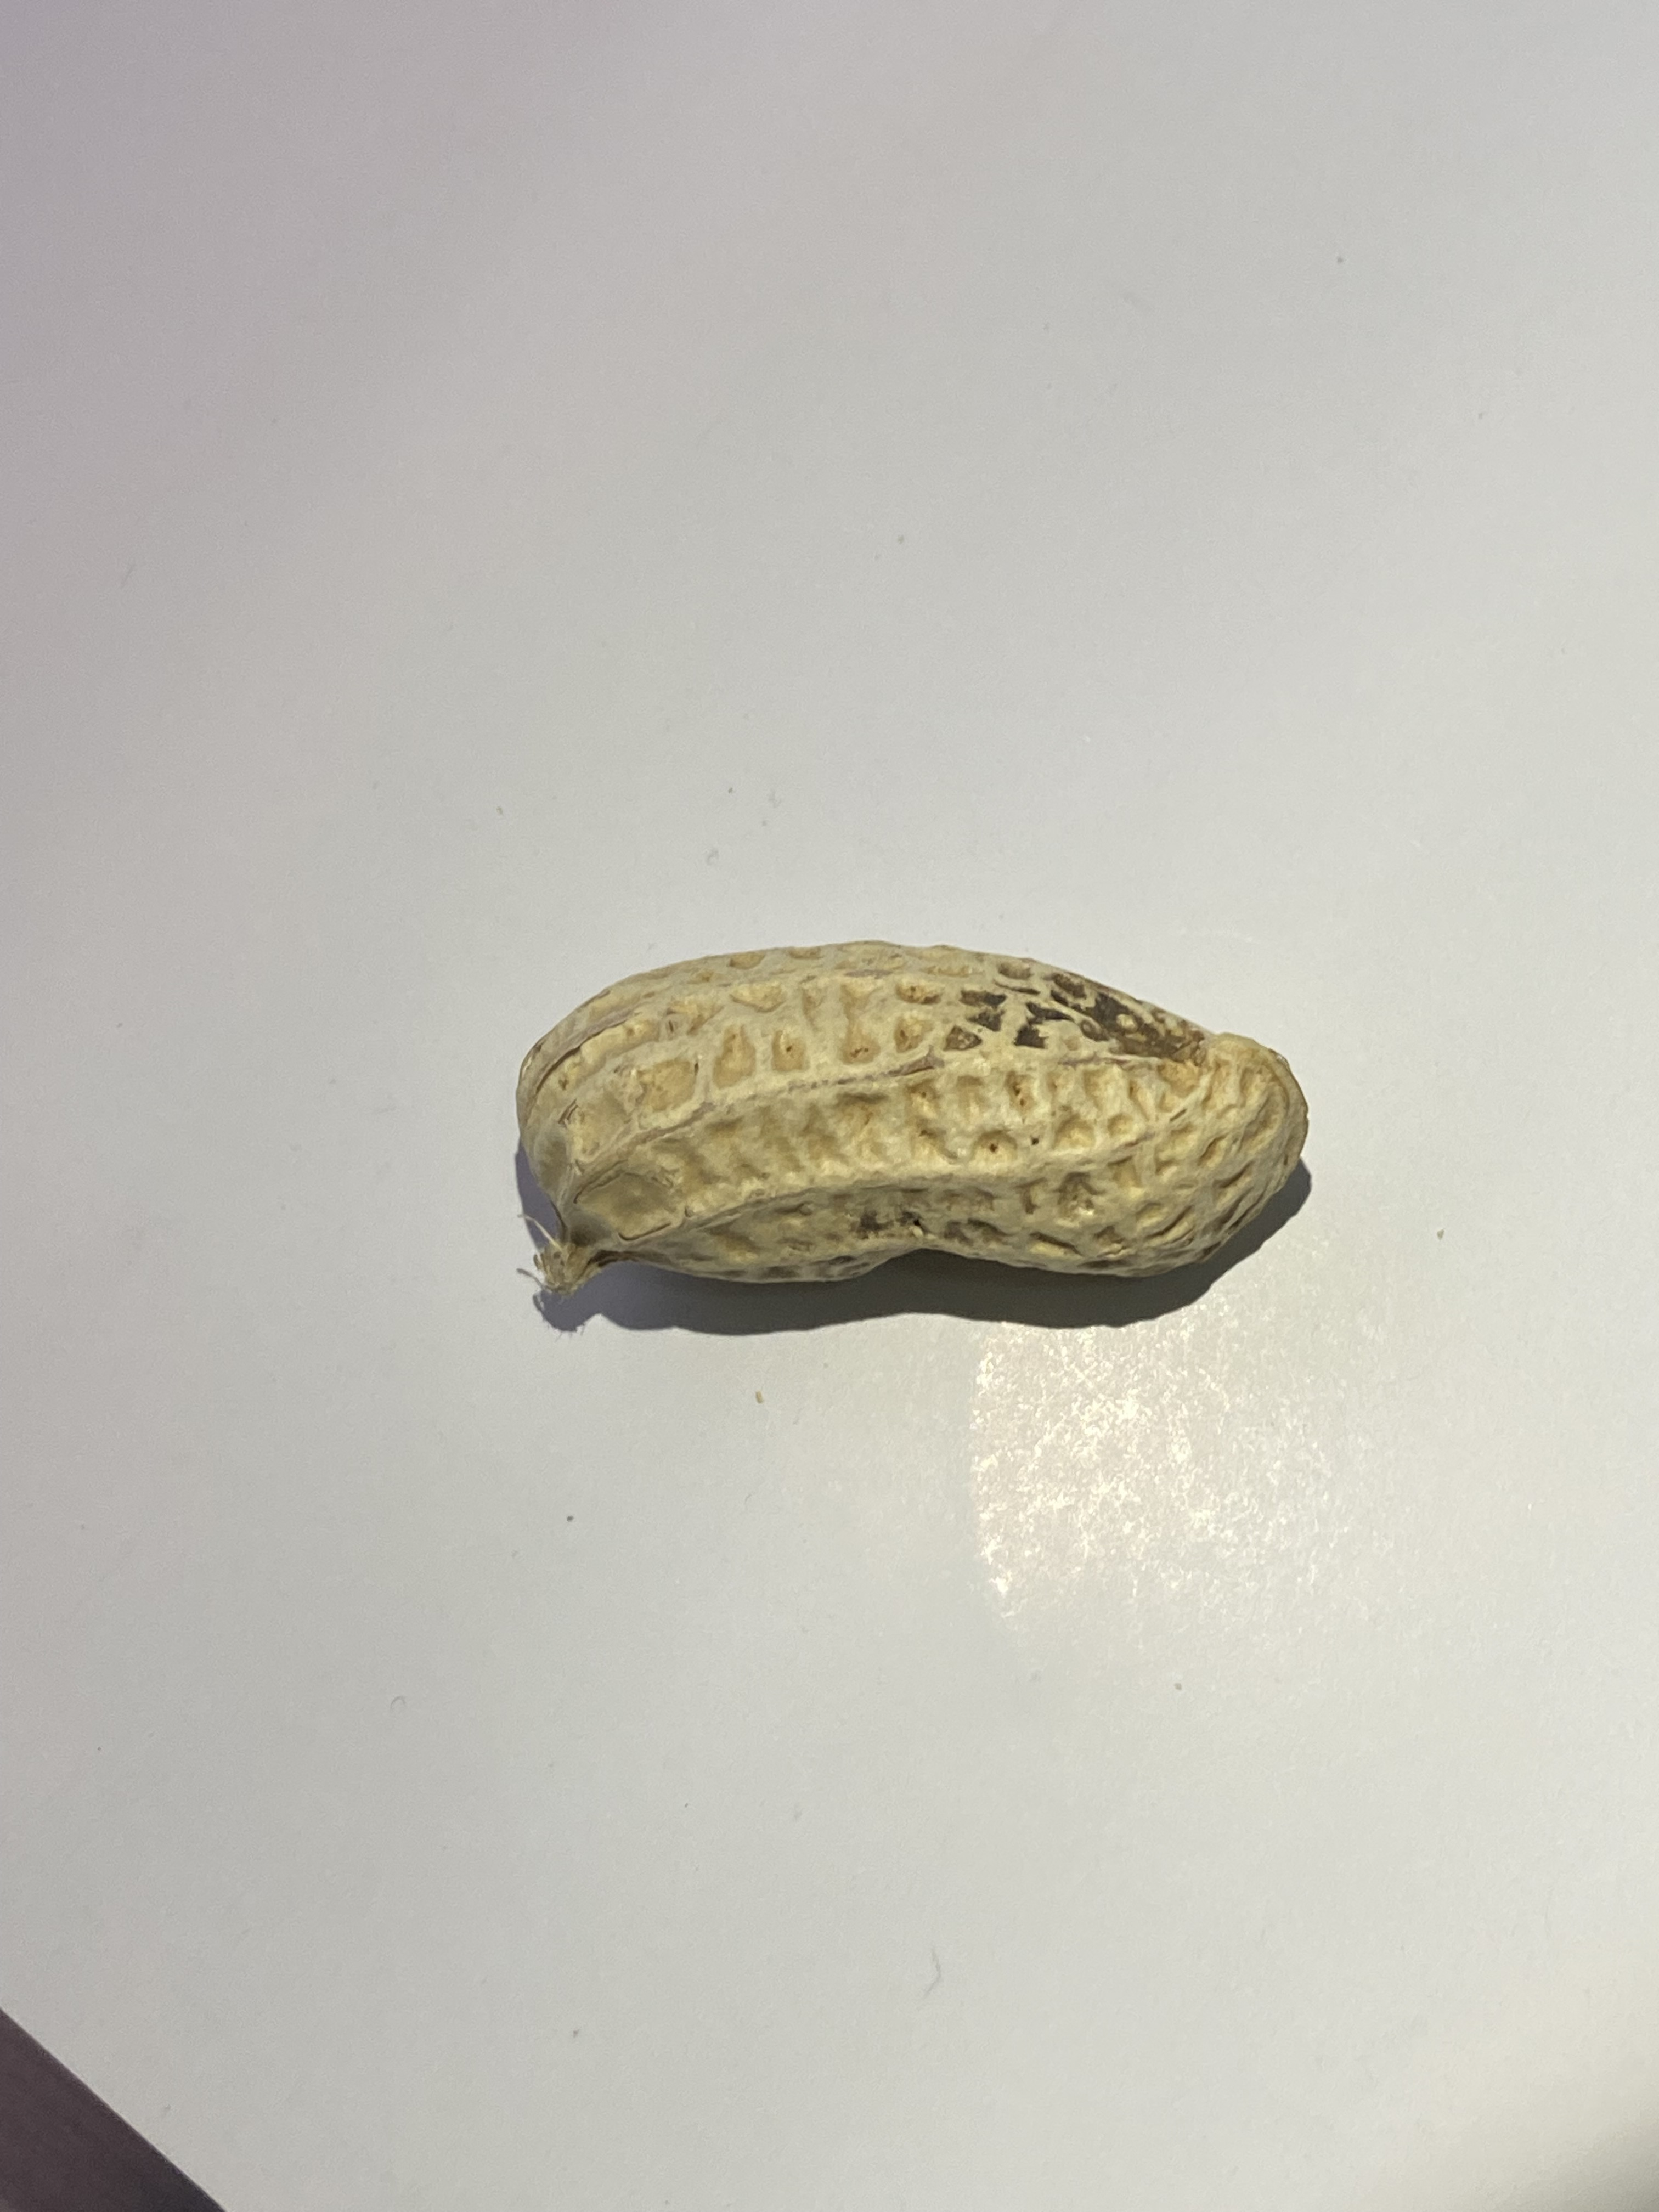kacang2: (464, 883, 1328, 1336)
